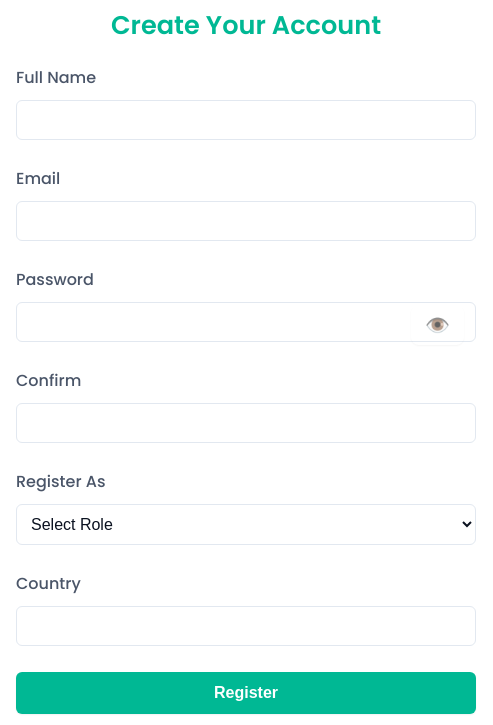
shows required field errors
The image size is (493, 725).
Step 1. Click the button "Register" → [246, 693], box [16,672,476,714]
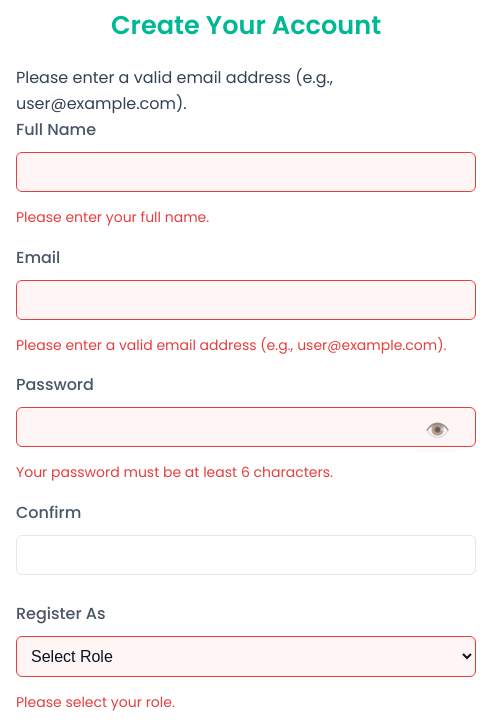
Now the text "Please enter your full name." is shown, box [16,207,209,227]
Now the text "Your password must be at least 6 characters." is shown, box [16,462,333,482]
Now the text "Please select your role." is shown, box [16,692,175,712]
